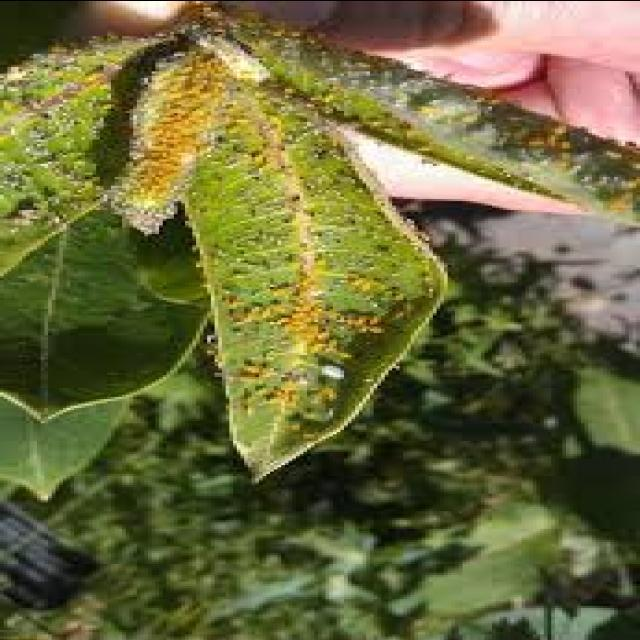aphid: (522, 128, 558, 150), (418, 95, 455, 116), (44, 37, 78, 55), (310, 321, 340, 341), (270, 279, 300, 297), (222, 290, 252, 308), (548, 116, 578, 134), (81, 66, 111, 84), (355, 274, 385, 290), (370, 321, 400, 337), (266, 22, 296, 38), (554, 134, 584, 150), (226, 118, 252, 136), (200, 48, 226, 66), (484, 92, 514, 106), (240, 358, 266, 374), (314, 380, 340, 396), (318, 88, 344, 104), (236, 64, 262, 80), (281, 79, 307, 95), (348, 270, 373, 286), (240, 398, 262, 416), (185, 105, 207, 122), (332, 346, 362, 358), (288, 24, 310, 40), (366, 310, 392, 323), (359, 372, 385, 385), (288, 306, 314, 319), (300, 427, 322, 440), (185, 82, 207, 95), (166, 165, 188, 178), (148, 124, 170, 136), (118, 198, 140, 209), (130, 182, 148, 194)
